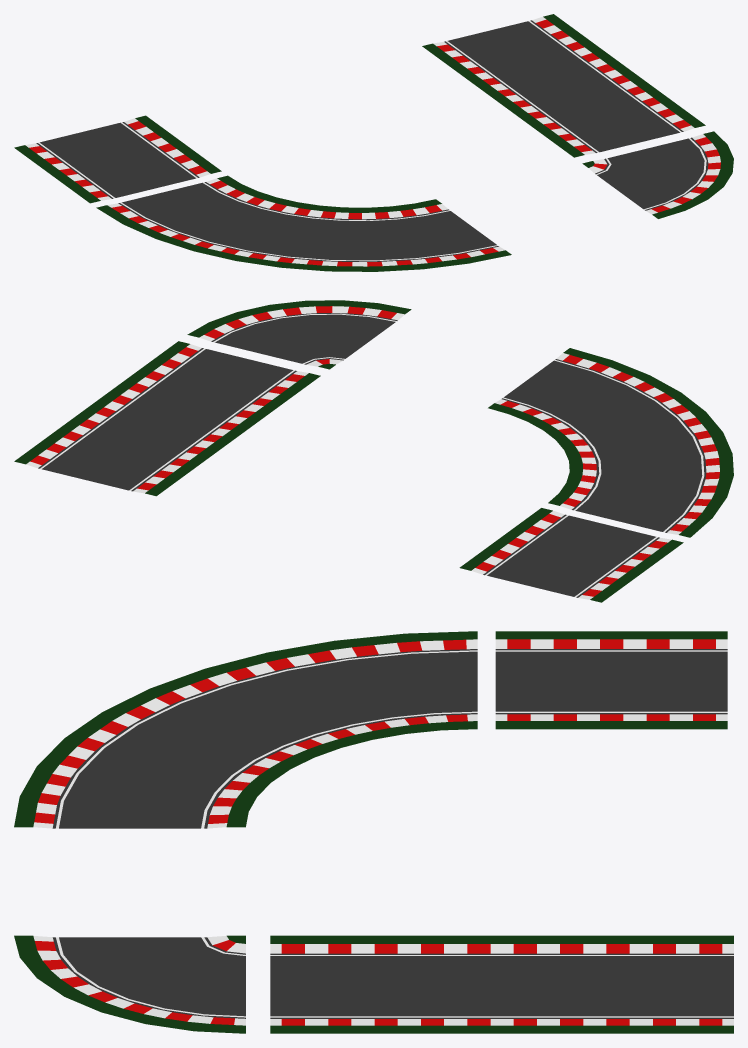
The model's file is curved_roads.glb.
3 views of the same model, one above another, from view 1: azimuth 30°, elevation 25°; view 2: azimuth 150°, elevation 25°; view 3: azimuth 270°, elevation 25° (orthographic). The views are drawn at different scales.
Visible parts, largest first — view 1: long_curve, long, short, short_curve; view 2: long_curve, long, short, short_curve; view 3: long_curve, long, short, short_curve.
Part boxes in pixels (x1=…): long_curve: x1=96, y1=175, x2=511, y2=271; long: x1=422, y1=14, x2=705, y2=157; short: x1=14, y1=115, x2=221, y2=203; short_curve: x1=582, y1=131, x2=733, y2=218; long_curve: x1=488, y1=348, x2=733, y2=537; long: x1=14, y1=341, x2=320, y2=496; short: x1=459, y1=508, x2=683, y2=602; short_curve: x1=187, y1=300, x2=411, y2=369; long_curve: x1=14, y1=631, x2=477, y2=828; long: x1=270, y1=935, x2=733, y2=1033; short: x1=495, y1=631, x2=727, y2=729; short_curve: x1=14, y1=935, x2=245, y2=1033.
Size of the model in its own units: 61.63 by 0.1 by 46.57.
Materials: 1 (1 with a texture image).
